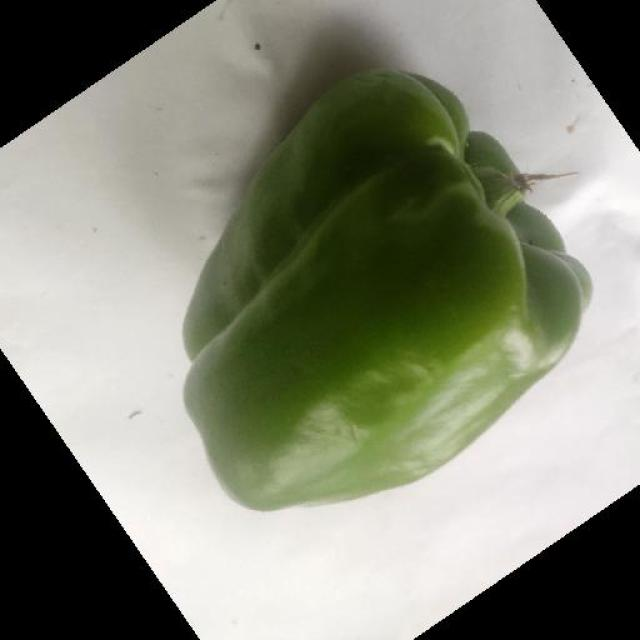Fresh_Capsicum: (217, 71, 564, 492)
